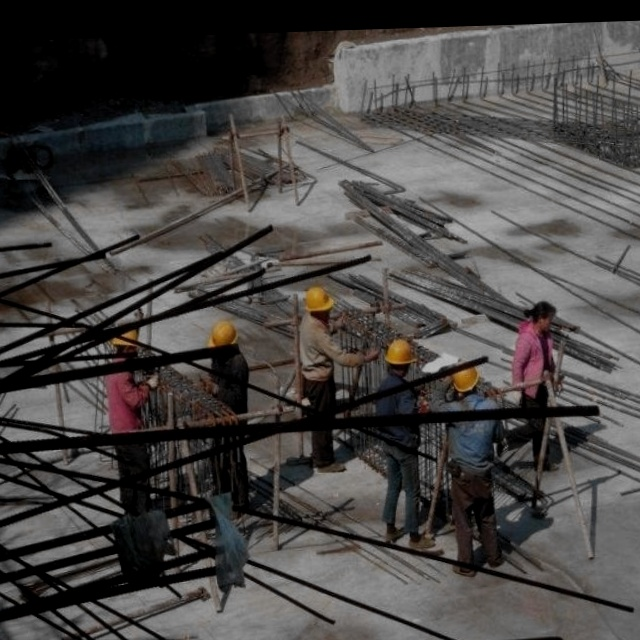Con_Casco: (381, 337, 415, 375), (300, 285, 332, 320)
